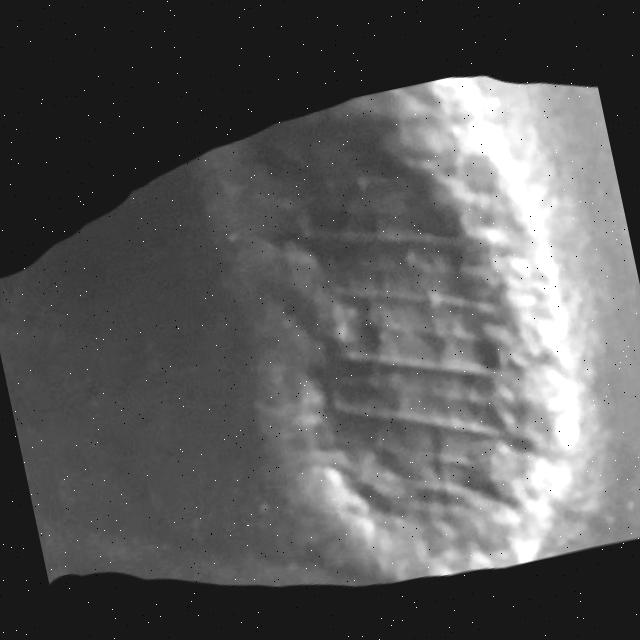mite: (0, 145, 329, 626), (438, 53, 640, 556), (322, 291, 385, 363), (303, 194, 353, 238), (69, 368, 110, 412), (467, 330, 503, 373), (414, 323, 448, 358), (246, 490, 277, 524), (216, 222, 245, 252), (78, 376, 102, 401), (251, 496, 271, 519), (621, 495, 637, 514), (222, 228, 239, 244)
sunburn: (188, 63, 614, 609)
